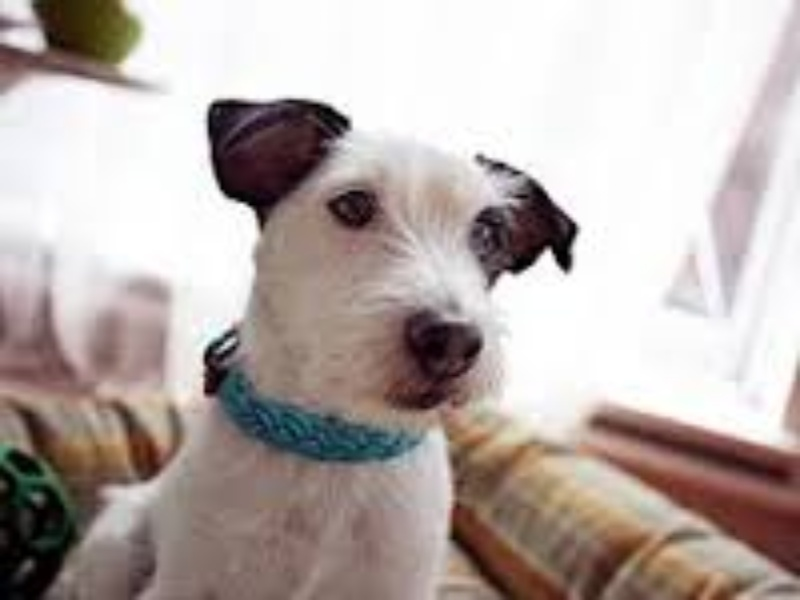dog: (138, 87, 584, 600)
